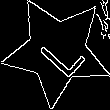L_NW: (28, 23, 86, 80)
